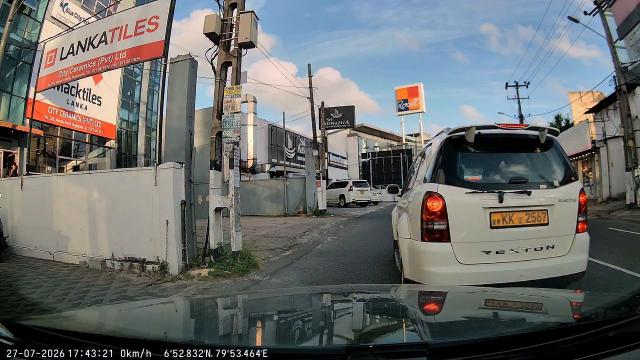number plate: (483, 208, 561, 230)
